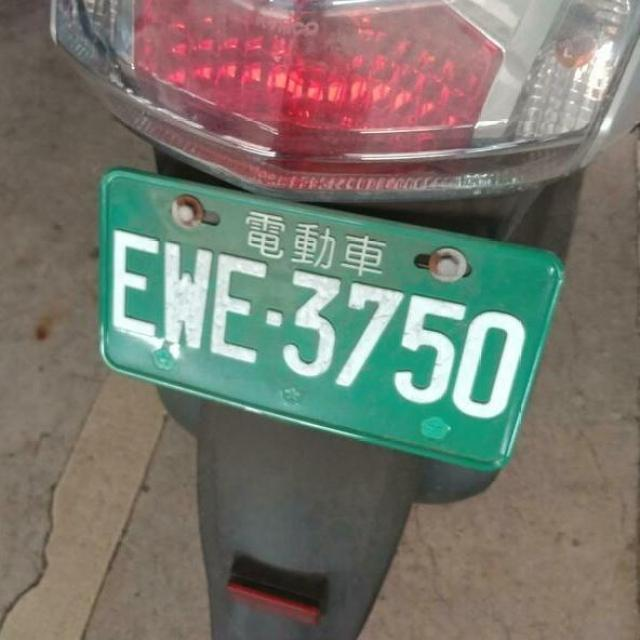GW: (71, 152, 558, 497)
